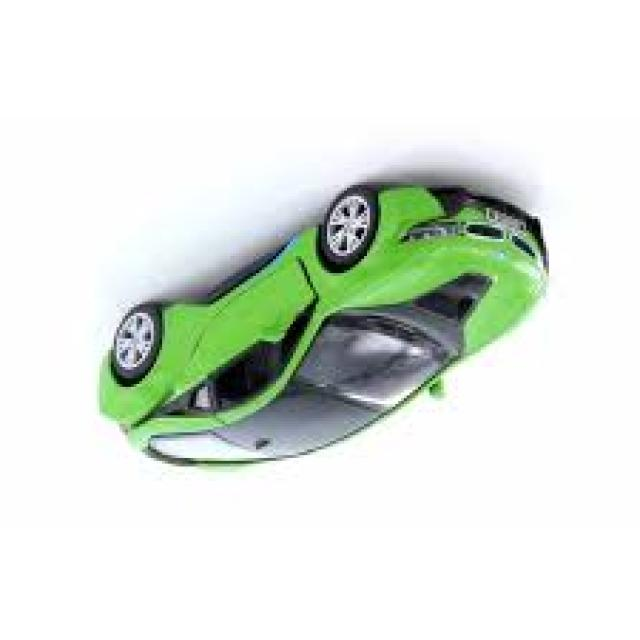Car: (99, 185, 552, 472)
